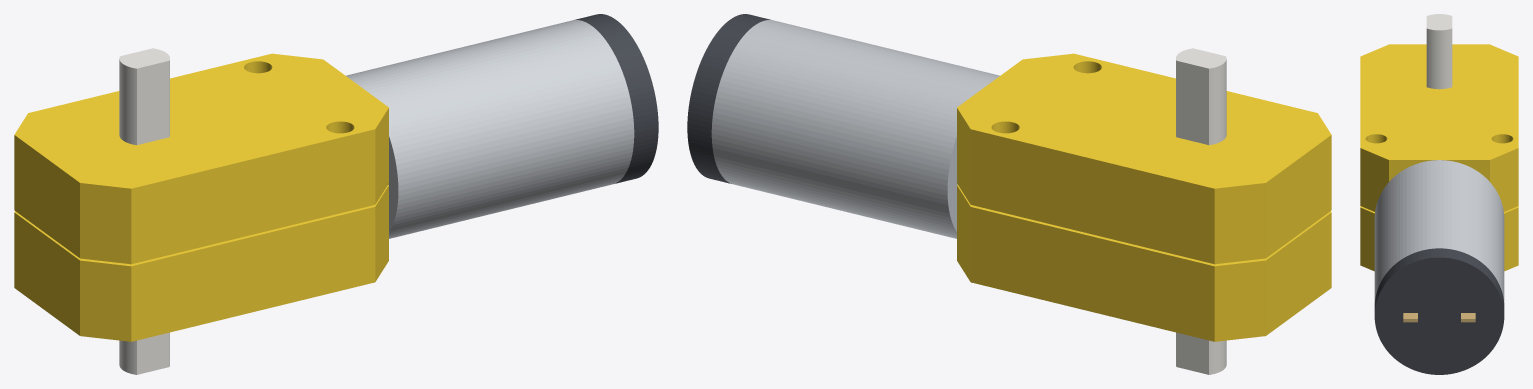
File: model_full.glb
3 renders of one model, left to right at view 1: azimuth 30°, elevation 25°; view 2: azimuth 150°, elevation 25°; view 3: azimuth 270°, elevation 25°, orthographic. The views are drawn at different scales.
Visible parts, largest first — view 1: housing_half_1, motor_can, housing_half_0, output_shaft, motor_end_cap, opposite_output_shaft; view 2: housing_half_1, motor_can, housing_half_0, output_shaft, motor_end_cap, opposite_output_shaft; view 3: housing_half_1, motor_end_cap, motor_can, output_shaft, housing_half_0, terminal_-4, terminal_4.
Boxes of the visible parts, <box> form: housing_half_1: <box>14,53,388,264</box>; motor_can: <box>346,20,634,238</box>; housing_half_0: <box>14,184,388,341</box>; output_shaft: <box>119,48,169,145</box>; motor_end_cap: <box>575,14,658,183</box>; opposite_output_shaft: <box>119,332,169,374</box>; housing_half_1: <box>957,53,1331,264</box>; motor_can: <box>711,20,999,238</box>; housing_half_0: <box>957,184,1331,341</box>; output_shaft: <box>1176,48,1226,145</box>; motor_end_cap: <box>687,14,770,183</box>; opposite_output_shaft: <box>1176,332,1226,374</box>; housing_half_1: <box>1360,44,1518,211</box>; motor_end_cap: <box>1374,248,1504,374</box>; motor_can: <box>1374,160,1504,302</box>; output_shaft: <box>1426,14,1452,89</box>; housing_half_0: <box>1360,206,1518,271</box>; terminal_-4: <box>1403,313,1417,322</box>; terminal_4: <box>1461,313,1475,322</box>.
Bounding box in the file's own units: 0.072 × 0.036 × 0.022.
